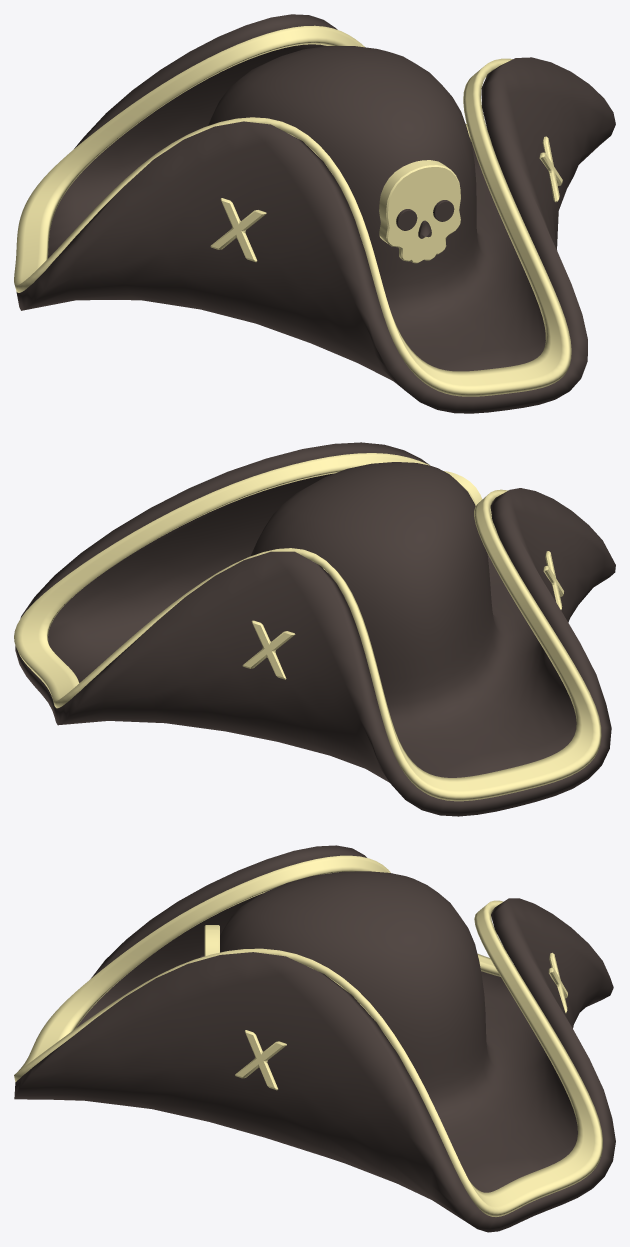
Rendered from PirateHat.fbx.
3 renders of one model, top to bottom at view 1: azimuth 30°, elevation 25°; view 2: azimuth 150°, elevation 25°; view 3: azimuth 270°, elevation 25°, orthographic. The views are drawn at different scales.
Parts seen in each view (by area): view 1: PirateHat; view 2: PirateHat; view 3: PirateHat.
Boxes of the visible parts, box(x1,y1,x2,y2) form: PirateHat: box(14, 14, 615, 413); PirateHat: box(14, 442, 615, 816); PirateHat: box(14, 845, 615, 1232).
Bounding box in the file's own units: 265 × 94.84 × 243.
